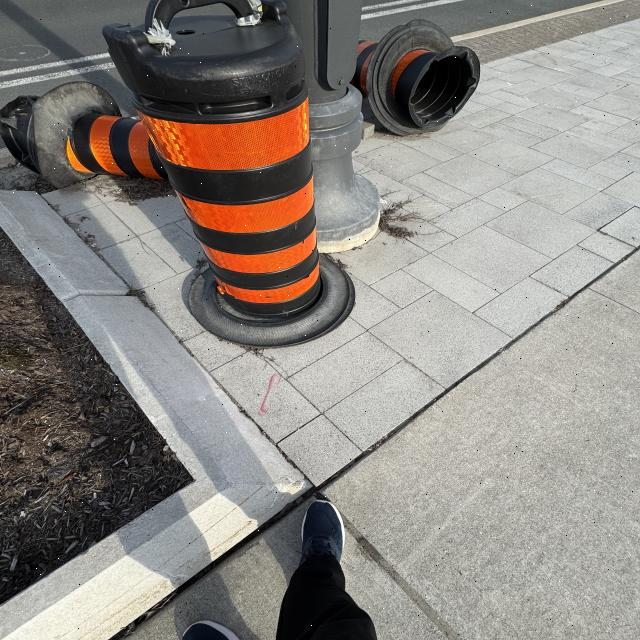Teraffic Barrel: (103, 0, 354, 346), (0, 82, 167, 188), (351, 20, 480, 135), (66, 114, 168, 180)
